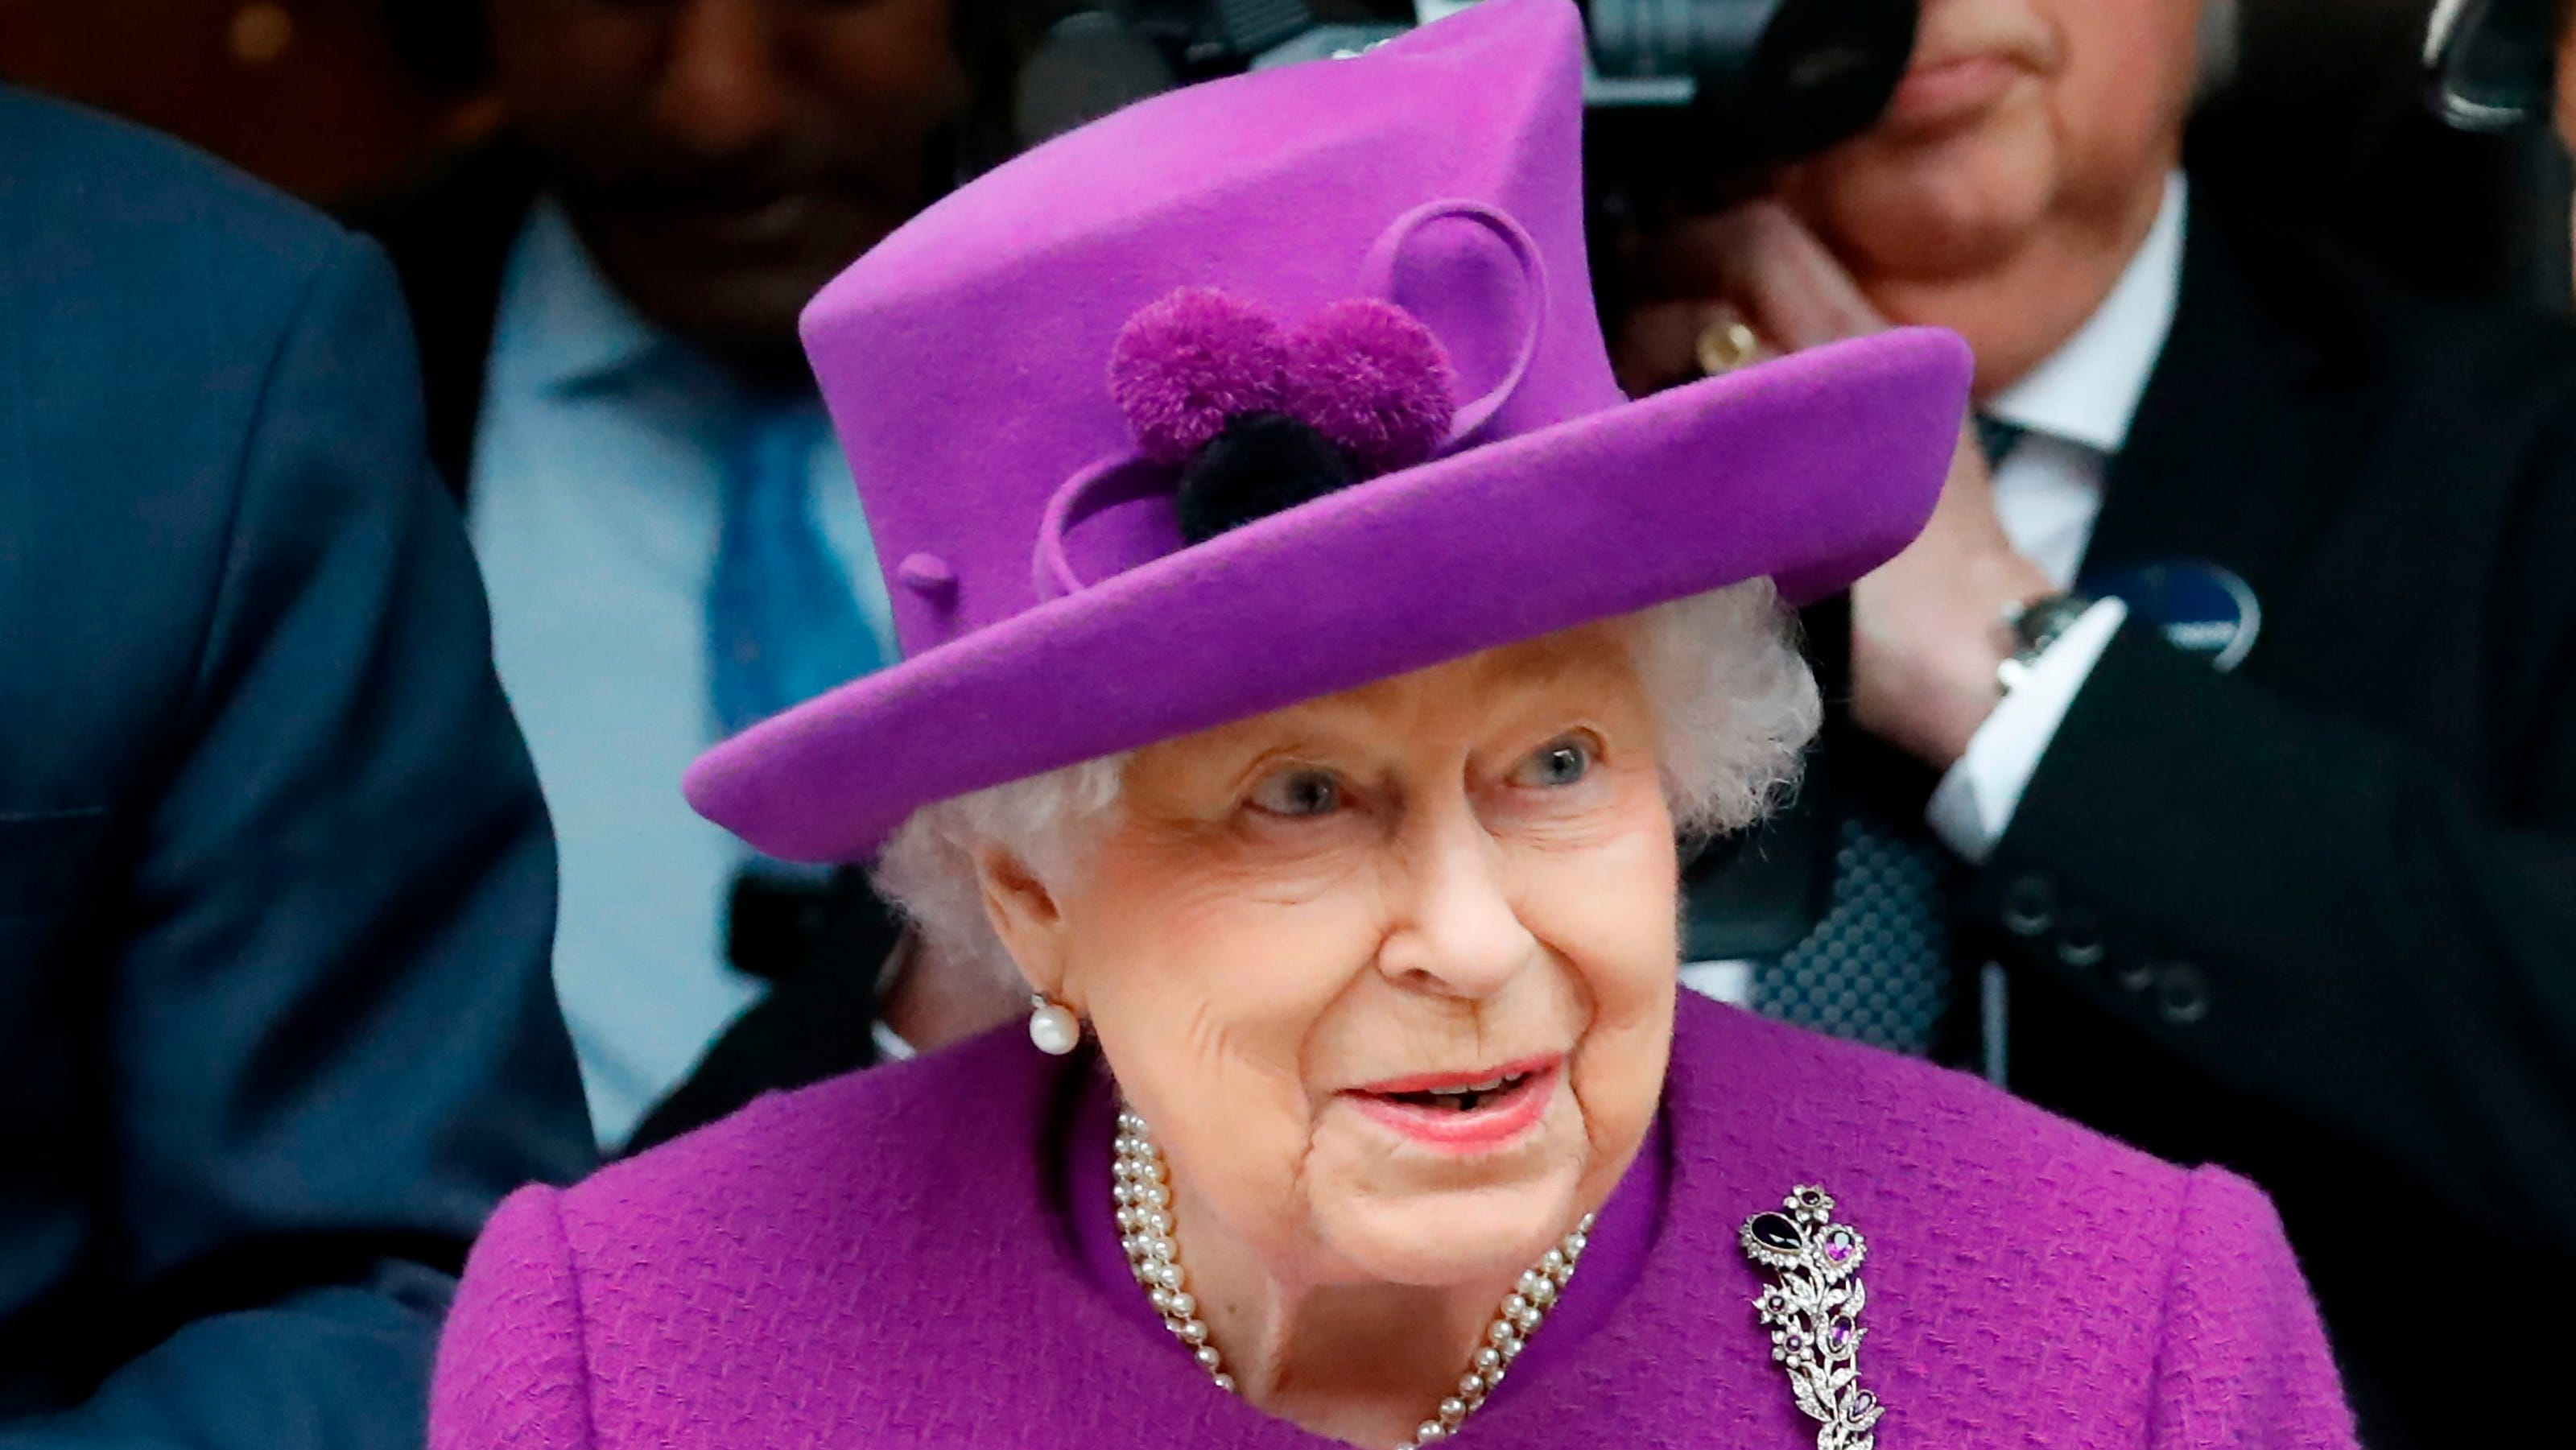without_mask: (1191, 699, 1657, 1177)
